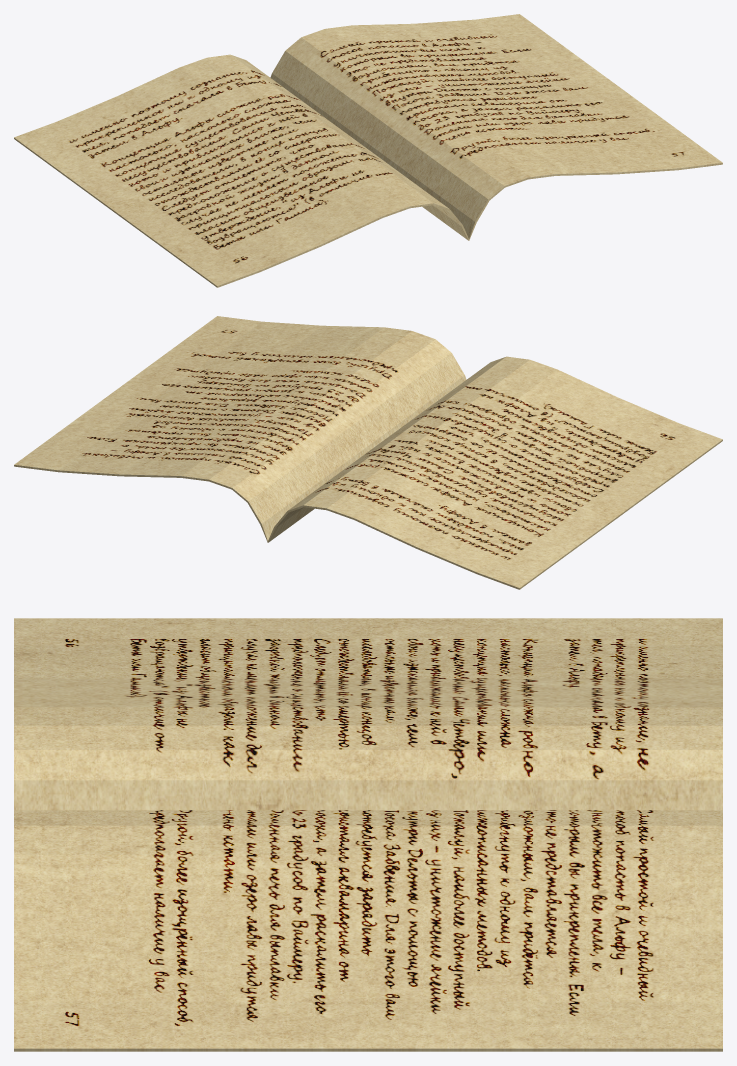
The model's file is Alpha Book Text.fbx.
3 views of the same model, one above another, from view 1: azimuth 30°, elevation 25°; view 2: azimuth 150°, elevation 25°; view 3: azimuth 270°, elevation 25° (orthographic). The views are drawn at different scales.
Parts seen in each view (by area): view 1: Alpha Book Text; view 2: Alpha Book Text; view 3: Alpha Book Text.
Boxes of the visible parts, bbox=[...] form: Alpha Book Text: bbox=[14, 14, 722, 287]; Alpha Book Text: bbox=[14, 316, 722, 589]; Alpha Book Text: bbox=[14, 618, 722, 1051].
Size of the model in its own units: 58.53 by 5.42 by 40.74.
